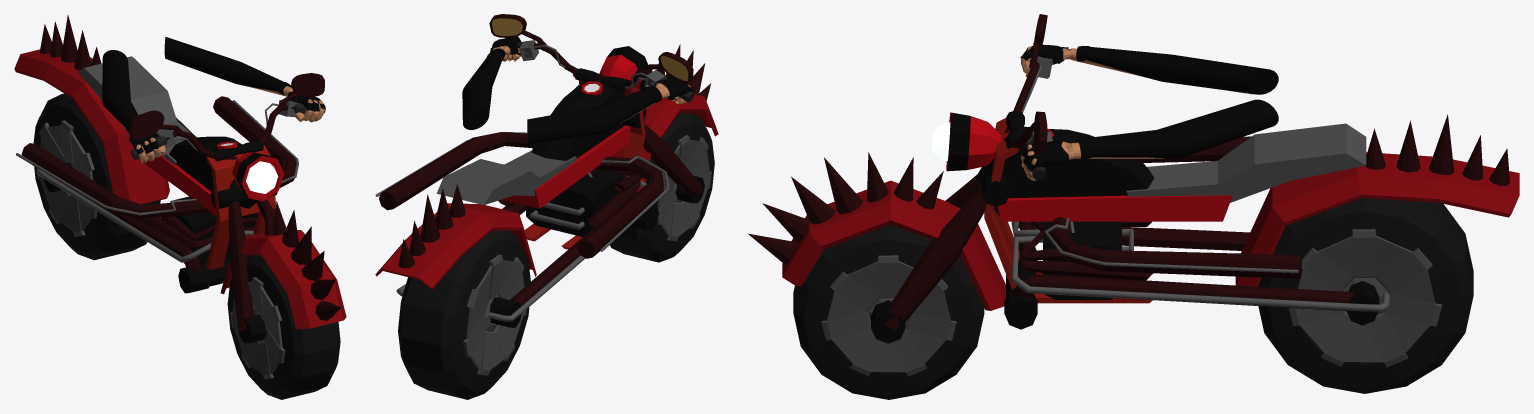
3 renders of one model, left to right at view 1: azimuth 30°, elevation 25°; view 2: azimuth 150°, elevation 25°; view 3: azimuth 270°, elevation 25°, orthographic. The views are drawn at different scales.
Parts seen in each view (by area): view 1: Cylinder.016, Cylinder.015, Окружность.004, Cylinder.012, Cylinder.008, Cylinder.014, Цилиндр.001, Цилиндр.020, Plane, Cone, Plane.002, Cylinder (+18 smaller); view 2: Cylinder.012, Cylinder.008, Окружность.004, Cylinder.015, Цилиндр.001, Plane, Cylinder.016, Cube, Цилиндр.020, Plane.001, Cube.001, Cone.001 (+19 smaller); view 3: Cylinder.012, Цилиндр.001, Cylinder.016, Окружность.004, Cylinder.015, Plane, Цилиндр.020, Cylinder.014, Cylinder.004, Cylinder.008, Cube.001, Plane.001 (+17 smaller).
Part boxes in pixels (x1,y1,x2,y2): Cylinder.016: [227, 254, 340, 399]; Cylinder.015: [14, 49, 169, 204]; Окружность.004: [102, 37, 324, 163]; Cylinder.012: [33, 93, 160, 260]; Cylinder.008: [21, 96, 296, 218]; Cylinder.014: [220, 230, 346, 329]; Цилиндр.001: [36, 120, 97, 236]; Цилиндр.020: [230, 277, 285, 379]; Plane: [77, 56, 196, 164]; Cone: [265, 201, 340, 320]; Plane.002: [206, 145, 275, 269]; Cylinder: [228, 199, 275, 332]; Cylinder.012: [398, 230, 530, 399]; Cylinder.008: [379, 132, 663, 258]; Окружность.004: [462, 45, 690, 144]; Cylinder.015: [375, 203, 536, 289]; Цилиндр.001: [463, 254, 526, 375]; Plane: [436, 150, 576, 205]; Cylinder.016: [610, 113, 714, 262]; Cube: [526, 169, 623, 236]; Цилиндр.020: [656, 135, 711, 241]; Plane.001: [531, 81, 624, 160]; Cube.001: [502, 125, 630, 208]; Cone.001: [398, 184, 465, 268]; Cylinder.012: [1258, 198, 1473, 393]; Цилиндр.001: [1288, 229, 1441, 367]; Cylinder.016: [793, 224, 984, 399]; Окружность.004: [1021, 46, 1278, 180]; Cylinder.015: [1235, 152, 1519, 286]; Plane: [1126, 123, 1366, 202]; Цилиндр.020: [821, 255, 956, 376]; Cylinder.014: [782, 180, 1005, 310]; Cylinder.004: [1013, 225, 1354, 310]; Cylinder.008: [1049, 137, 1301, 278]; Cube.001: [997, 195, 1232, 221]; Plane.001: [976, 126, 1153, 215].
Bounding box in the file's own units: 179 × 197 × 426.
